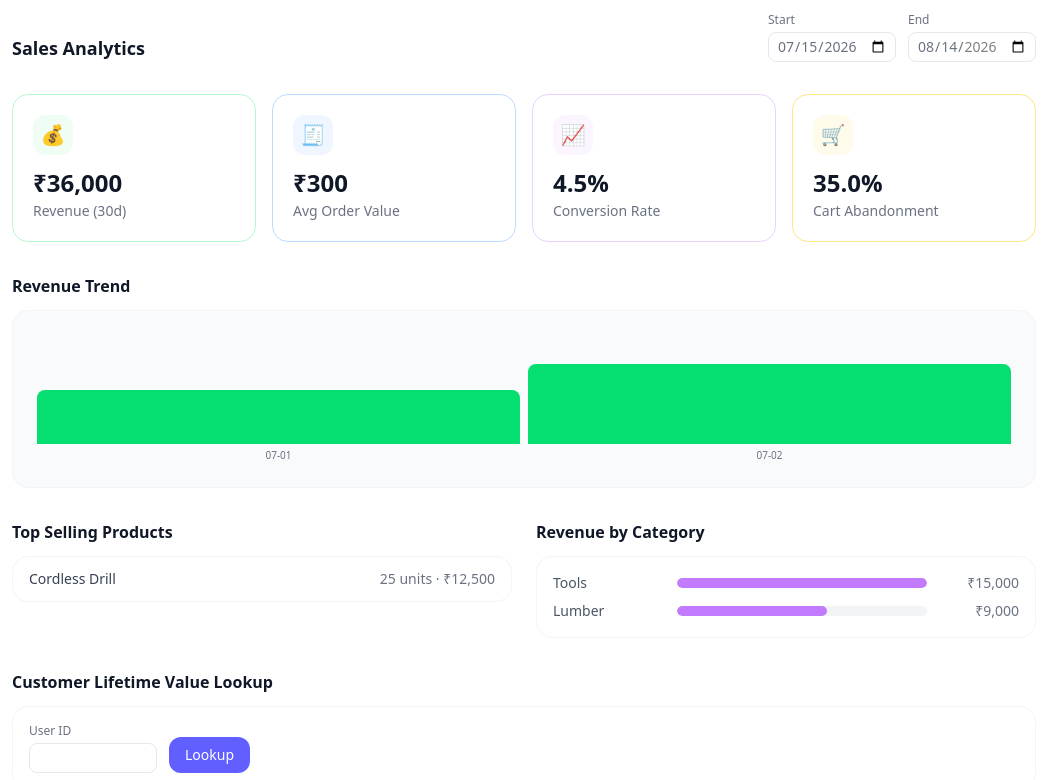
it: SalesAnalyticsTab › looks up customer lifetime value by user ID
Check: the text "Cordless Drill" is shown, box [29,569,116,589]
Type "7" into the number field labelled "User ID" at coordinates (93, 758), box [29,743,157,773]
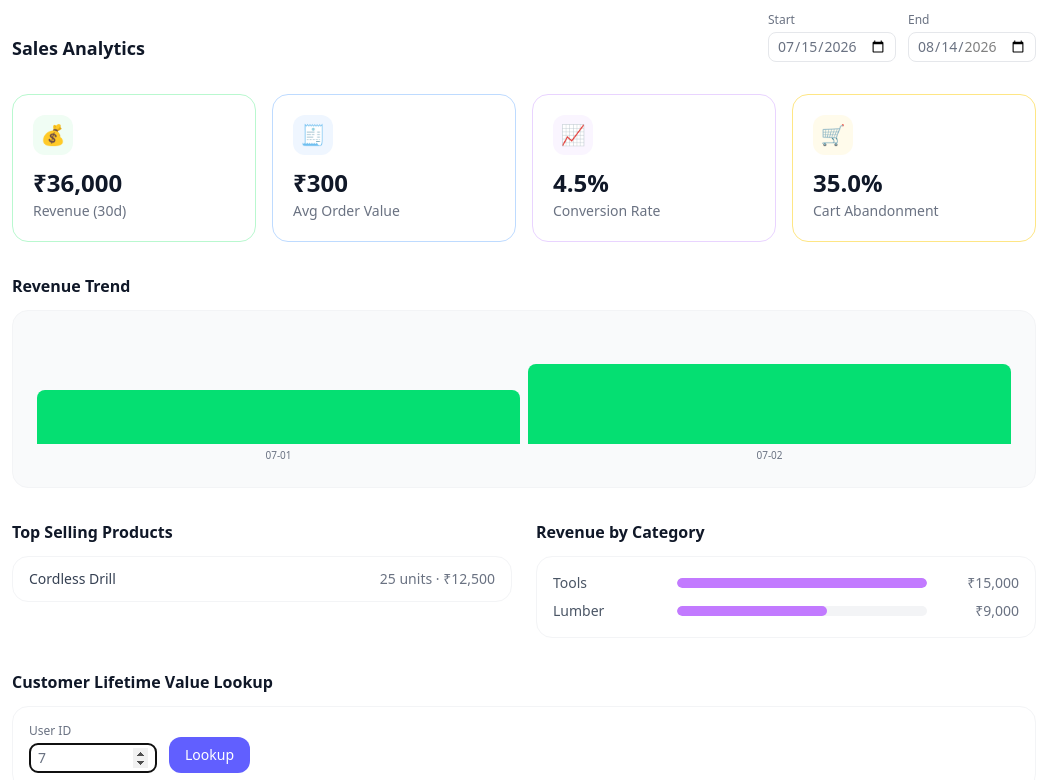
Click the button "Lookup" at coordinates (210, 755), box [169,737,250,773]
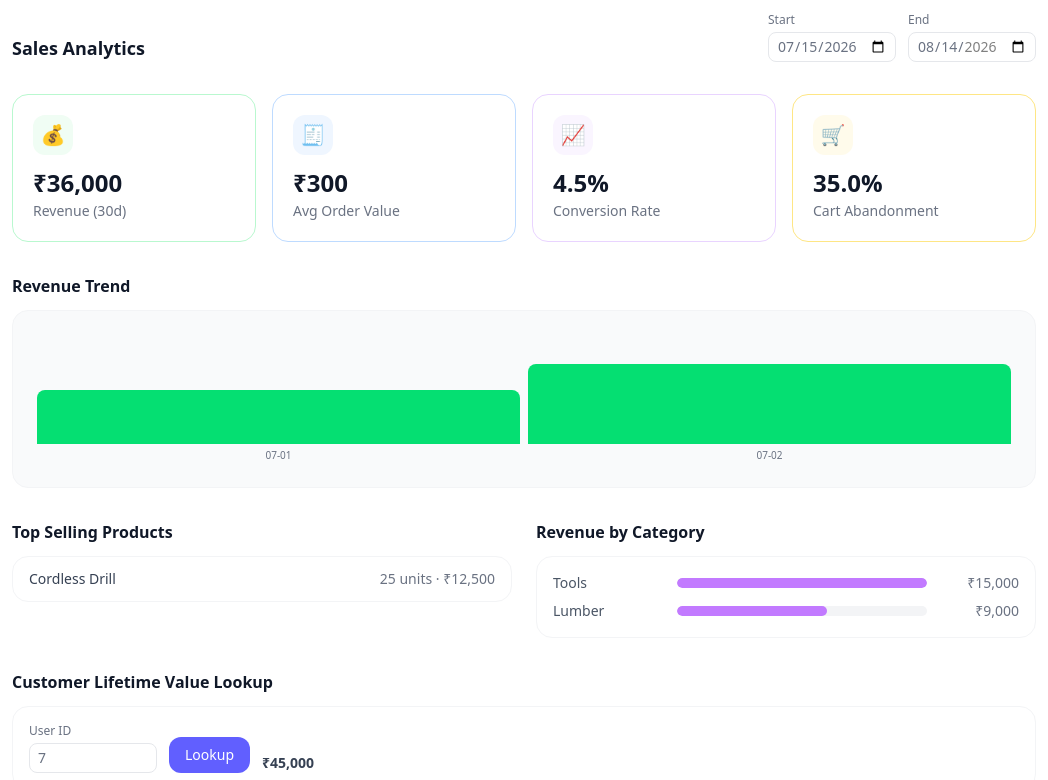
Check: the text "₹45,000" is shown, box [262,753,314,773]
